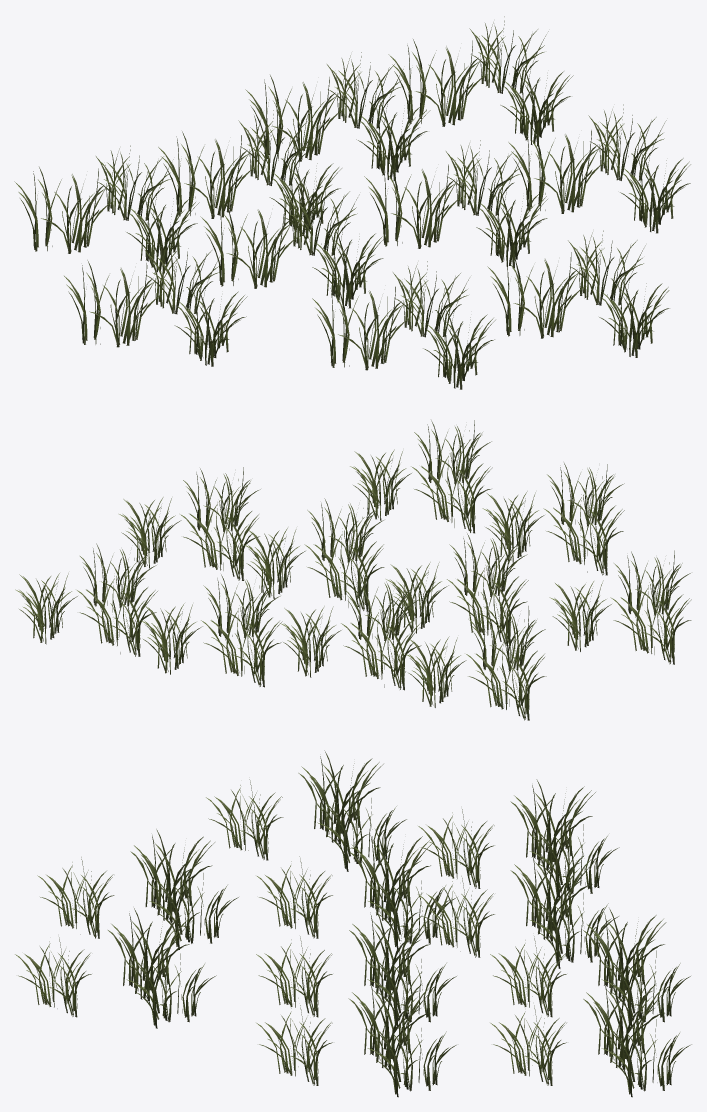
Rendered from Grass12.fbx.
3 views of the same model, one above another, from view 1: azimuth 30°, elevation 25°; view 2: azimuth 150°, elevation 25°; view 3: azimuth 270°, elevation 25° (orthographic). The views are drawn at different scales.
Parts seen in each view (by area): view 1: LV_Gnollando_Foliage_CityGrass02A_PM_KJH; view 2: LV_Gnollando_Foliage_CityGrass02A_PM_KJH; view 3: LV_Gnollando_Foliage_CityGrass02A_PM_KJH.
Boxes of the visible parts, left/top/right/bottom form: LV_Gnollando_Foliage_CityGrass02A_PM_KJH: left=14, top=16, right=690, bottom=389; LV_Gnollando_Foliage_CityGrass02A_PM_KJH: left=15, top=420, right=691, bottom=720; LV_Gnollando_Foliage_CityGrass02A_PM_KJH: left=15, top=750, right=691, bottom=1097.
Bounding box in the file's own units: 3.4 × 0.3788 × 3.26.
Materials: 10 (10 with a texture image).
